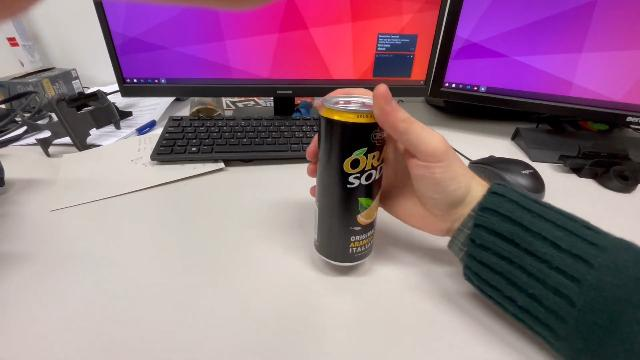OranSoda: (311, 93, 385, 270)
